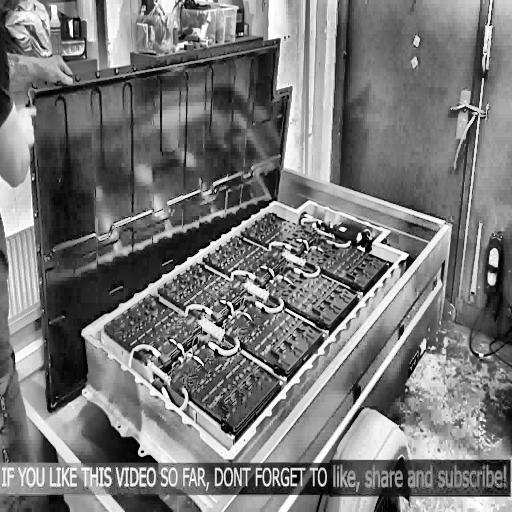b_casing: (26, 37, 292, 415)
high_volt_cable: (120, 210, 356, 415)
